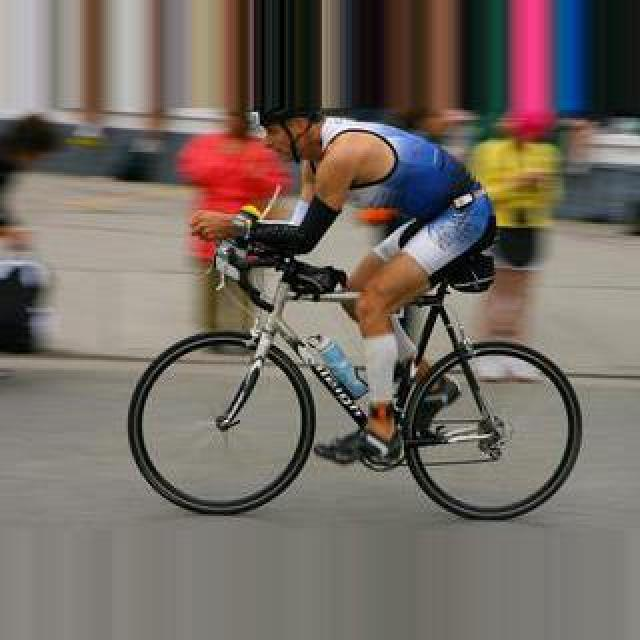MC-Bike: (232, 112, 508, 484)
Person: (112, 212, 574, 526)
